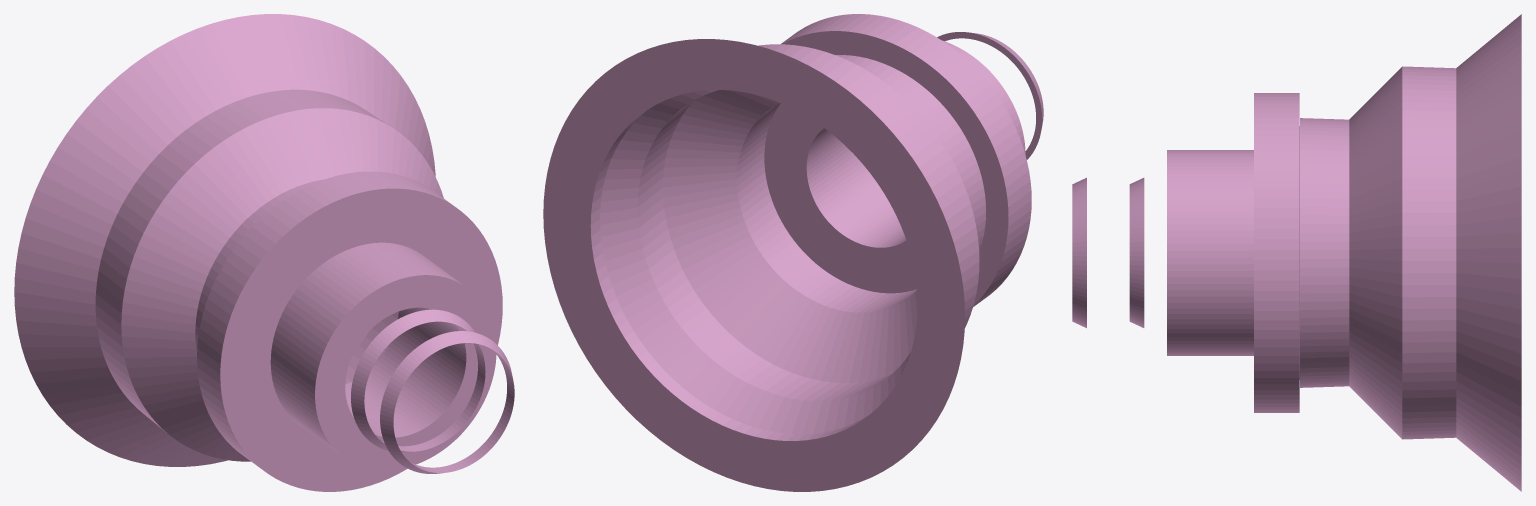
The model's file is bellows_suction_cup_demo.glb.
The picture shows the model from 3 angles, left to right: view 1: azimuth 30°, elevation 25°; view 2: azimuth 150°, elevation 25°; view 3: azimuth 270°, elevation 25°; orthographic projection.
Parts seen in each view (by area): view 1: bellows_suction_cup; view 2: bellows_suction_cup; view 3: bellows_suction_cup.
Part boxes in pixels (x1=…): bellows_suction_cup: x1=14, y1=14, x2=514, y2=491; bellows_suction_cup: x1=543, y1=14, x2=1043, y2=491; bellows_suction_cup: x1=1072, y1=14, x2=1521, y2=491.
Size of the model in its own units: 20.9 by 20.9 by 19.64.
